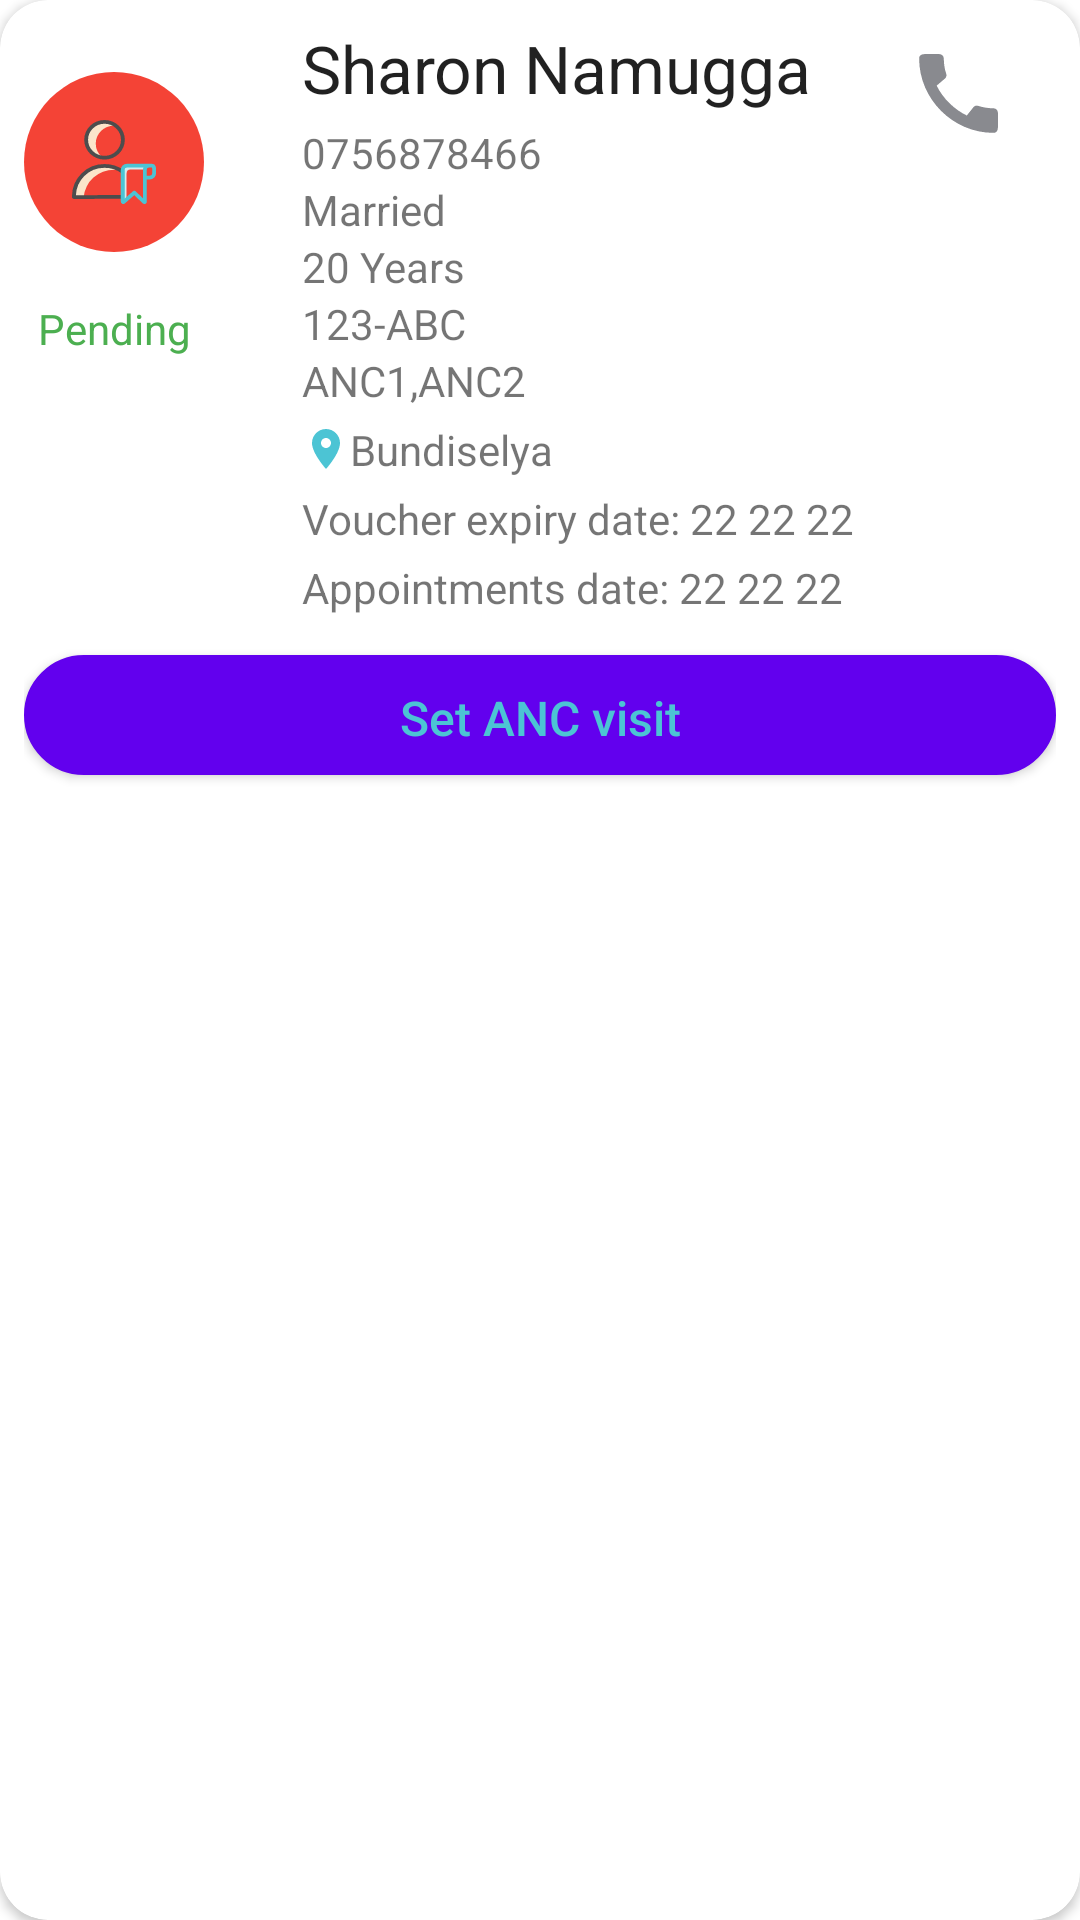

Named icons in this screenshot (1080w x 1920h) and their bounding boxes, (x1, y1, x2, y2):
call: (919, 54, 998, 133)
